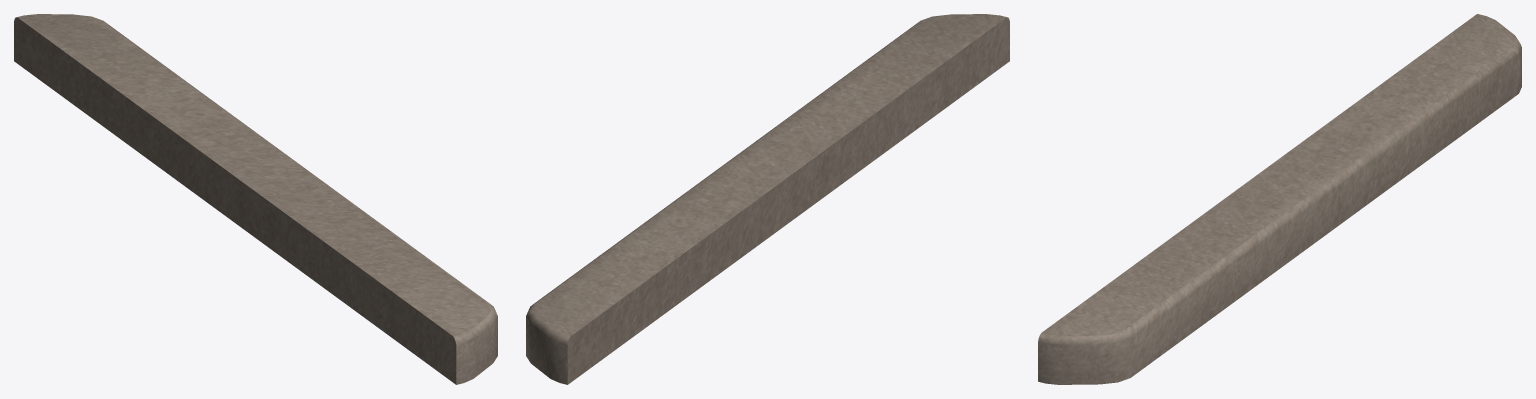
Rendered from kapıMekanizma.fbx.
3 views of the same model, side by side, from view 1: azimuth 30°, elevation 25°; view 2: azimuth 150°, elevation 25°; view 3: azimuth 330°, elevation 25° (orthographic).
Parts seen in each view (by area): view 1: Cube.004; view 2: Cube.004; view 3: Cube.004.
Part boxes in pixels (x1,y1,x2,y2): Cube.004: (14,14,497,384); Cube.004: (526,14,1009,384); Cube.004: (1038,14,1521,384).
Size of the model in its own units: 16.99 by 11.47 by 198.
Materials: 1 (1 with a texture image).
